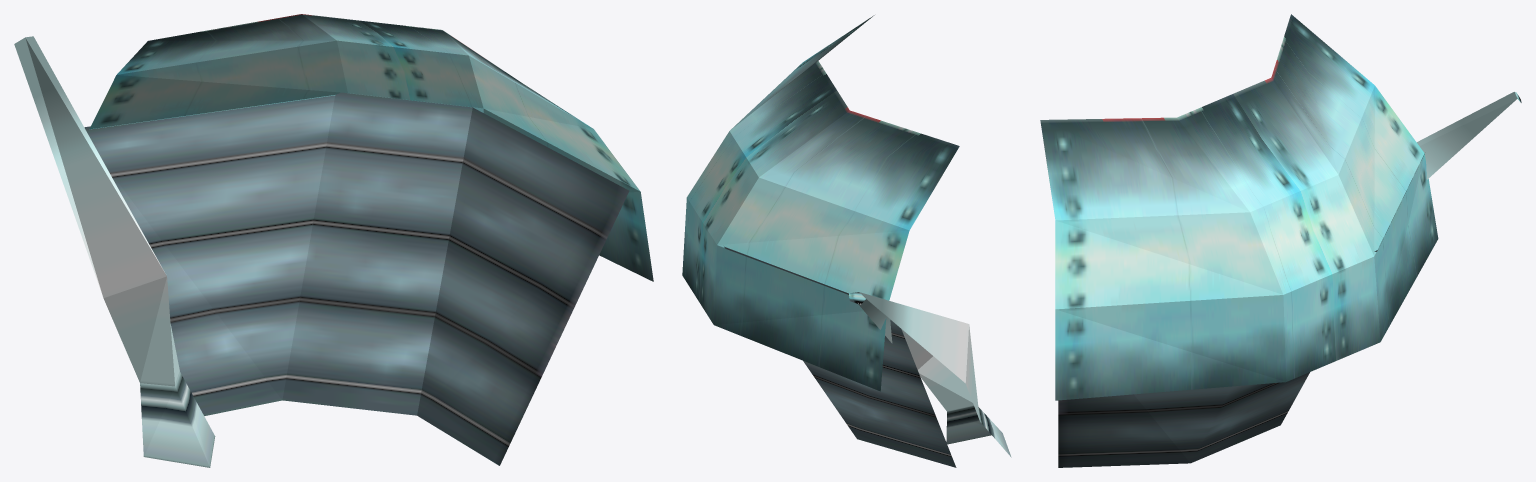
Rendered from W_AI_Runde_Ecke_Klein_ee_Ministerium_2532.glb.
3 renders of one model, left to right at view 1: azimuth 30°, elevation 25°; view 2: azimuth 150°, elevation 25°; view 3: azimuth 270°, elevation 25°, orthographic. The views are drawn at different scales.
Parts seen in each view (by area): view 1: pPlaneShape26, pPlaneShape27, pCylinderShape68; view 2: pPlaneShape27, pPlaneShape26, pCylinderShape68; view 3: pPlaneShape27, pPlaneShape26, pCylinderShape68.
Boxes of the visible parts, box(x1,y1,x2,y2) form: pPlaneShape26: box(84, 92, 629, 465); pPlaneShape27: box(89, 14, 653, 281); pCylinderShape68: box(14, 36, 215, 467); pPlaneShape27: box(682, 15, 959, 391); pPlaneShape26: box(724, 246, 956, 467); pCylinderShape68: box(849, 292, 1011, 457); pPlaneShape27: box(1040, 14, 1438, 400); pPlaneShape26: box(1058, 154, 1424, 467); pCylinderShape68: box(1417, 92, 1521, 179).
Bounding box in the file's own units: 0.4317 × 0.3891 × 0.4799.
Materials: 3 (3 with a texture image).
